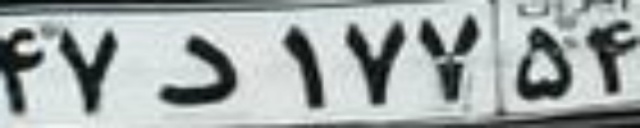1: (281, 26, 327, 107)
4: (582, 20, 636, 93), (0, 27, 36, 113)
5: (514, 27, 576, 99)
7: (415, 13, 484, 103), (56, 26, 121, 111), (344, 21, 407, 105)
dal: (155, 35, 238, 105)
